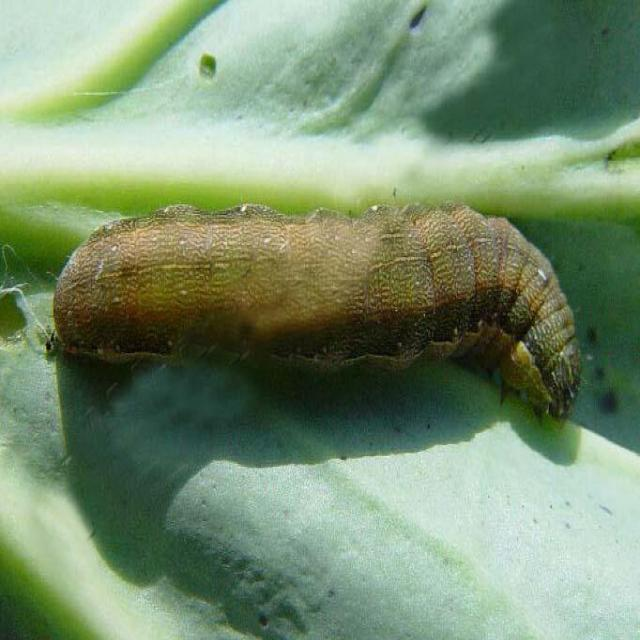BeetArmyWorm-Larva-: (50, 191, 590, 427)
